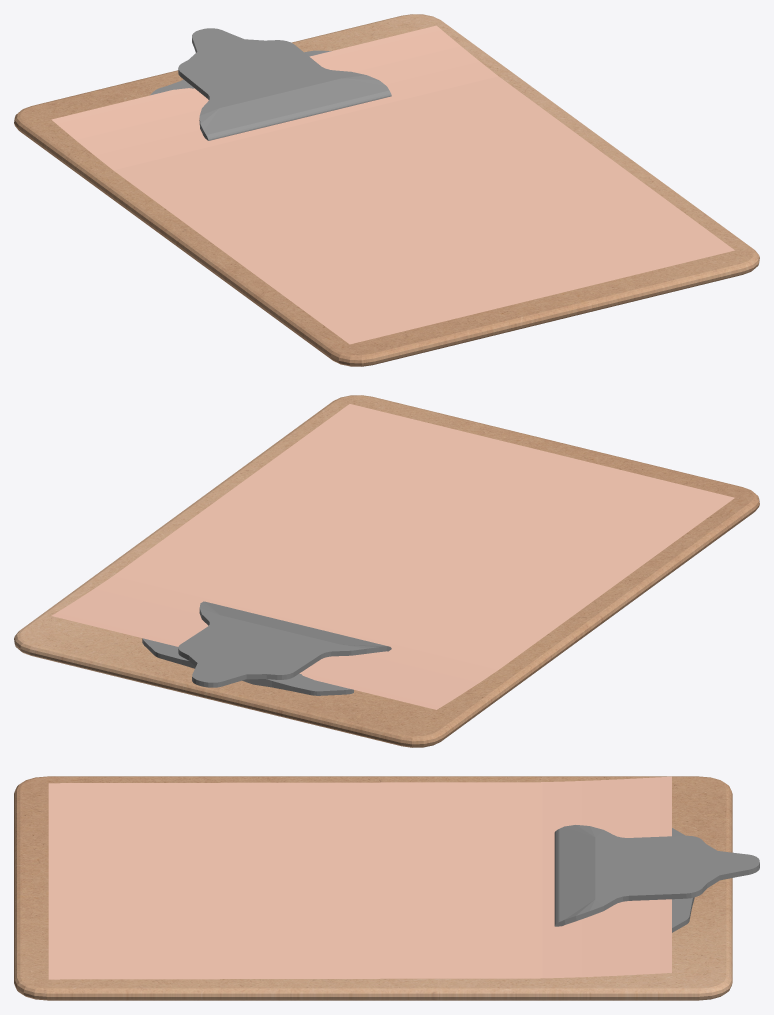
File: clipBoard.fbx
3 renders of one model, top to bottom at view 1: azimuth 30°, elevation 25°; view 2: azimuth 150°, elevation 25°; view 3: azimuth 270°, elevation 25°, orthographic. The views are drawn at different scales.
Parts seen in each view (by area): view 1: Plane, Cube, Cube.002; view 2: Plane, Cube, Cube.002, Cube.001; view 3: Plane, Cube, Cube.002, Cube.001.
Boxes of the visible parts, x1,y1,x2,y2 form: Plane: [51, 25, 734, 344]; Cube: [14, 14, 759, 366]; Cube.002: [178, 28, 391, 140]; Plane: [51, 404, 734, 709]; Cube: [14, 395, 759, 747]; Cube.002: [178, 601, 391, 687]; Cube.001: [142, 638, 353, 695]; Plane: [48, 776, 671, 979]; Cube: [14, 776, 732, 1000]; Cube.002: [554, 825, 759, 926]; Cube.001: [672, 828, 694, 932].
Size of the model in its own units: 337 by 23.51 by 490.
